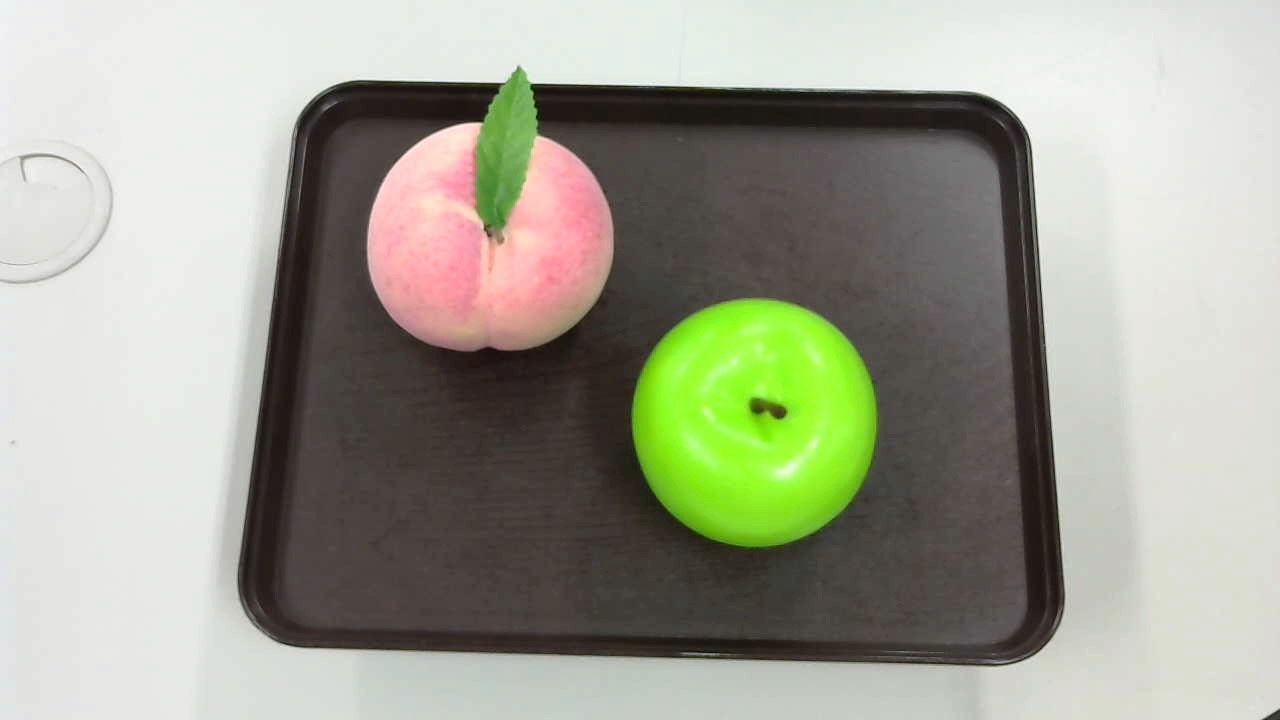green apple: (630, 295, 880, 553)
peach: (363, 62, 616, 356)
